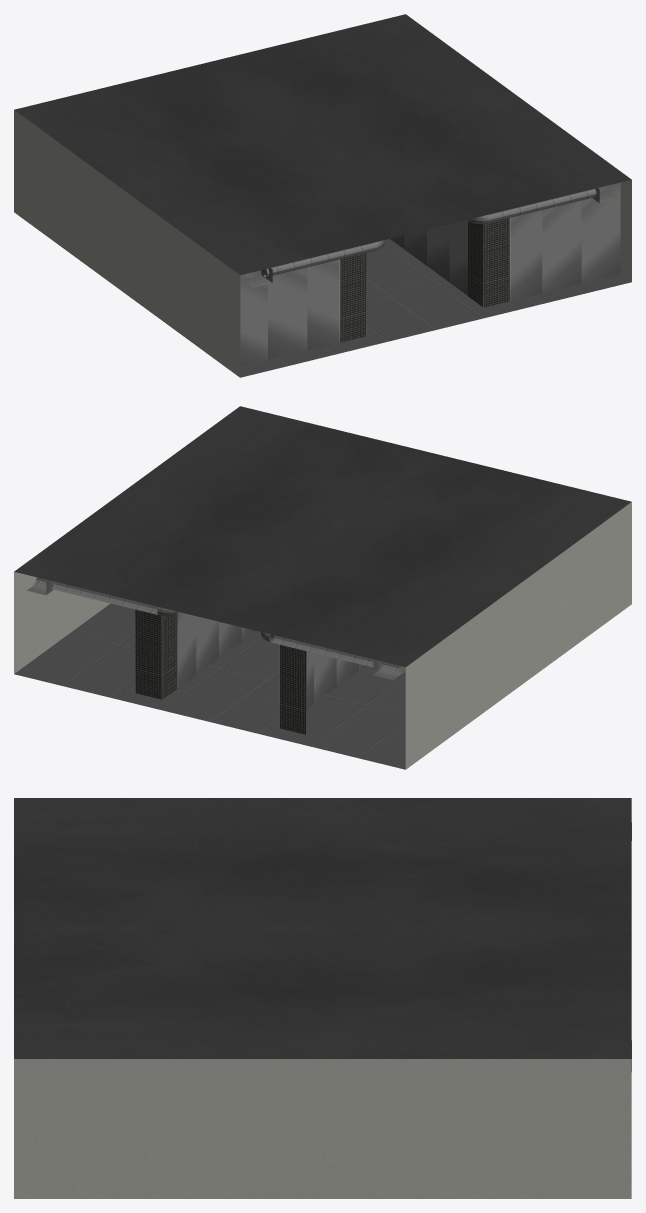
The model's file is cluster2.dae.
The picture shows the model from 3 angles, top to bottom: view 1: azimuth 30°, elevation 25°; view 2: azimuth 150°, elevation 25°; view 3: azimuth 270°, elevation 25°; orthographic projection. The views are drawn at different scales.
Parts seen in each view (by area): view 1: cluster0; view 2: cluster0; view 3: cluster0.
Boxes of the visible parts, x1,y1,x2,y2 form: cluster0: (14,14,631,377); cluster0: (14,406,631,769); cluster0: (14,798,631,1198).
Bounding box in the file's own units: 20 × 20.01 × 5.
Materials: 1 (1 with a texture image).
